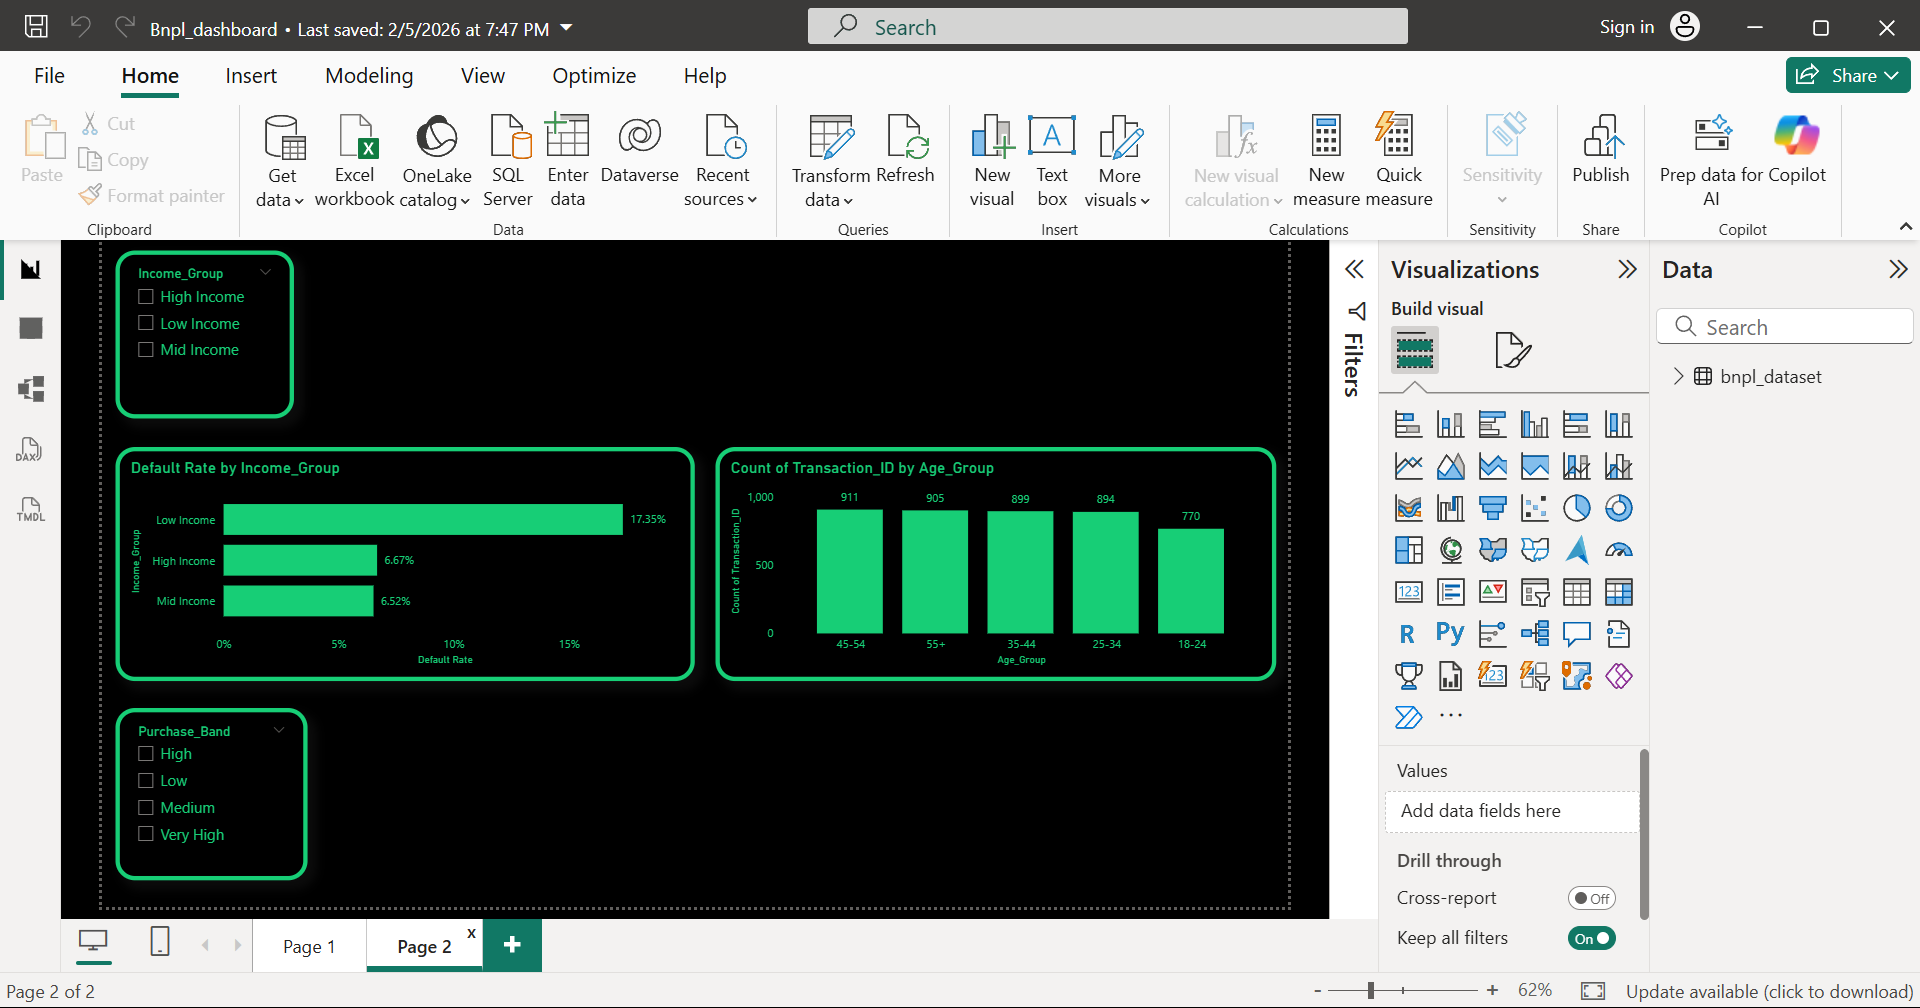

What the dashboard file says about the page in this screenshot:
{"tool":"powerbi","page":{"name":"Page 2","canvas":[1280,720],"ordinal":1},"visuals":[{"type":"barChart","fields":{"Category":["bnpl_dataset.Income_Group"],"Y":["bnpl_dataset.Default Rate"]},"box":[14.6,223.5,625,252.6],"z":0},{"type":"clusteredColumnChart","fields":{"Category":["bnpl_dataset.Age_Group"],"Y":["CountNonNull(bnpl_dataset.Transaction_ID)"]},"box":[662.3,223.5,605.6,252.6],"z":1000},{"type":"slicer","fields":{"Values":["bnpl_dataset.Income_Group"]},"box":[14.6,11.3,192.7,181.4],"z":2003},{"type":"slicer","fields":{"Values":["bnpl_dataset.Purchase_Band"]},"box":[14.6,505.2,207.3,186.2],"z":2004}]}

Visuals, with their boxes on the page's 1280x720 design canvas (x1, y1, x2, y2). These are canvas units, not pixel positions in the 1920x1008 screenshot, which may show the page scaled, cropped or inside an application window:
barChart - bnpl_dataset.Income_Group x bnpl_dataset.Default Rate: {"x1": 15, "y1": 224, "x2": 640, "y2": 476}
clusteredColumnChart - bnpl_dataset.Age_Group x CountNonNull(bnpl_dataset.Transaction_ID): {"x1": 662, "y1": 224, "x2": 1268, "y2": 476}
slicer - bnpl_dataset.Income_Group: {"x1": 15, "y1": 11, "x2": 207, "y2": 193}
slicer - bnpl_dataset.Purchase_Band: {"x1": 15, "y1": 505, "x2": 222, "y2": 691}
